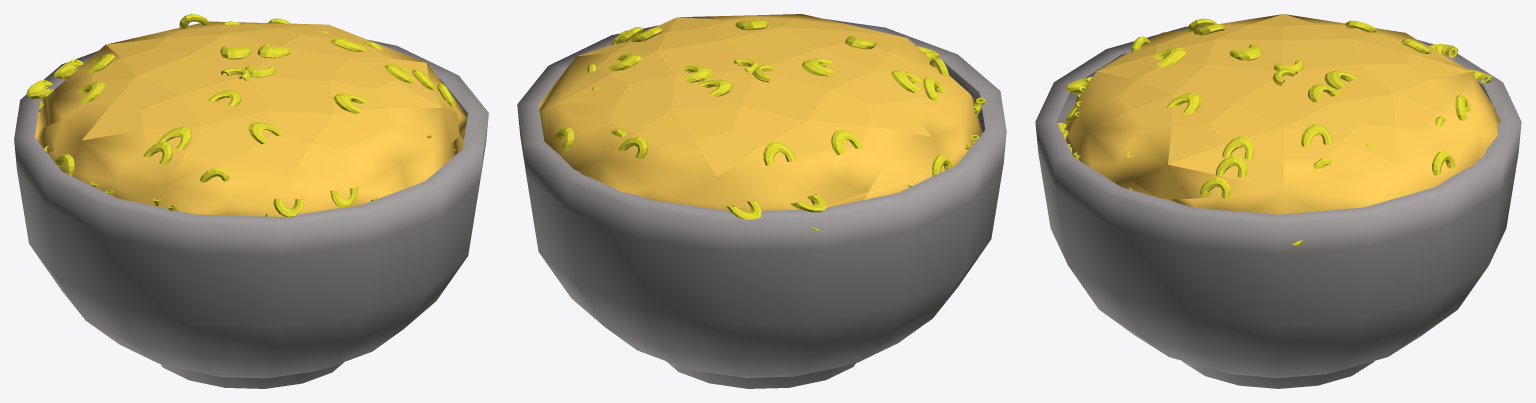
File: macCheese.fbx
3 views of the same model, side by side, from view 1: azimuth 30°, elevation 25°; view 2: azimuth 150°, elevation 25°; view 3: azimuth 270°, elevation 25° (orthographic). The views are drawn at different scales.
Parts seen in each view (by area): view 1: Plane, Icosphere, Icosphere|Circle.001|Dupli|7, Icosphere|Circle.001|Dupli|5, Icosphere|Circle.001|Dupli|6; view 2: Plane, Icosphere, Icosphere|Circle.001|Dupli|3, Icosphere|Circle.001|Dupli|, Icosphere|Circle.001|Dupli|5, Icosphere|Circle.001|Dupli|76; view 3: Plane, Icosphere, Icosphere|Circle.001|Dupli|9, Icosphere|Circle.001|Dupli|2, Icosphere|Circle.001|Dupli|8, Icosphere|Circle.001|Dupli|7, Icosphere|Circle.001|Dupli|6.
Boxes of the visible parts, box(x1,y1,x2,y2) form: Plane: box(14, 38, 488, 388); Icosphere: box(35, 21, 467, 216); Icosphere|Circle.001|Dupli|7: box(333, 93, 366, 113); Icosphere|Circle.001|Dupli|5: box(157, 126, 191, 149); Icosphere|Circle.001|Dupli|6: box(248, 121, 284, 144); Plane: box(517, 18, 1006, 388); Icosphere: box(538, 14, 982, 211); Icosphere|Circle.001|Dupli|3: box(763, 141, 795, 165); Icosphere|Circle.001|Dupli|: box(831, 129, 863, 154); Icosphere|Circle.001|Dupli|5: box(891, 70, 921, 92); Icosphere|Circle.001|Dupli|76: box(801, 58, 833, 76); Plane: box(1035, 26, 1521, 388); Icosphere: box(1063, 14, 1499, 214); Icosphere|Circle.001|Dupli|9: box(1222, 136, 1254, 159); Icosphere|Circle.001|Dupli|2: box(1301, 124, 1332, 146); Icosphere|Circle.001|Dupli|8: box(1215, 155, 1247, 177); Icosphere|Circle.001|Dupli|7: box(1166, 92, 1200, 114); Icosphere|Circle.001|Dupli|6: box(1152, 48, 1185, 67).
Bounding box in the file's own units: 327 × 207 × 327.
